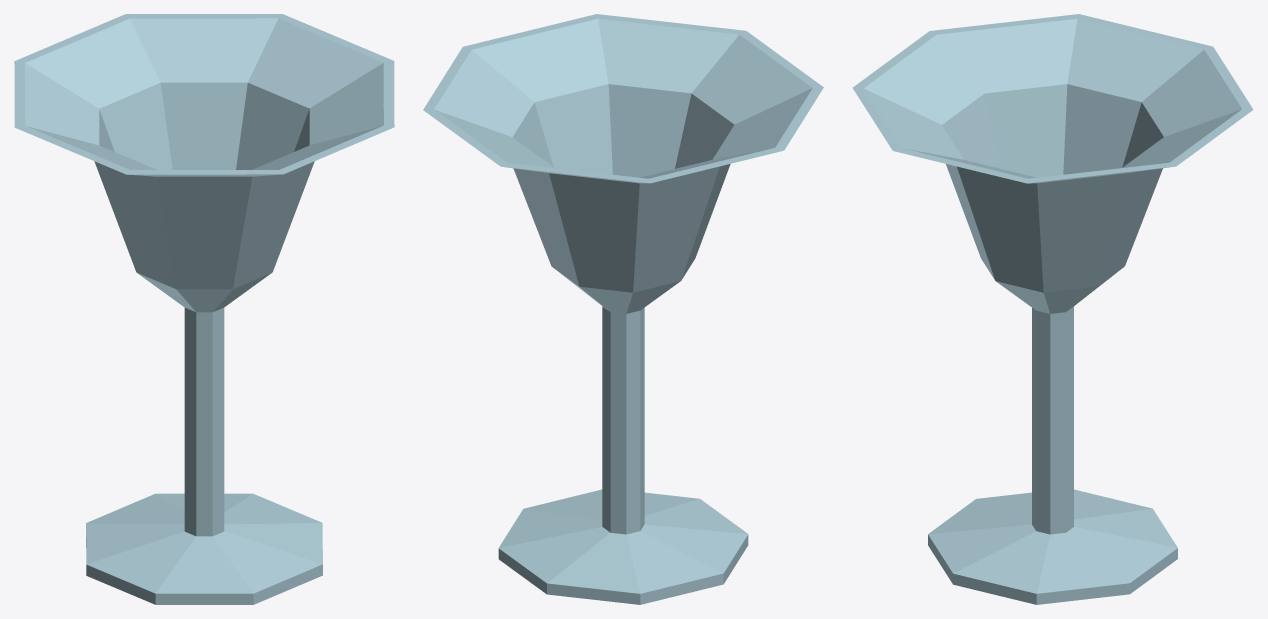
File: Glass_2.fbx
3 renders of one model, left to right at view 1: azimuth 30°, elevation 25°; view 2: azimuth 150°, elevation 25°; view 3: azimuth 270°, elevation 25°, orthographic.
Parts seen in each view (by area): view 1: Glass_2; view 2: Glass_2; view 3: Glass_2.
Part boxes in pixels (left/top/right/bottom): Glass_2: left=14, top=14, right=394, bottom=604; Glass_2: left=423, top=14, right=823, bottom=604; Glass_2: left=852, top=14, right=1253, bottom=604.
Bounding box in the file's own units: 16.98 × 16.98 × 21.17.
